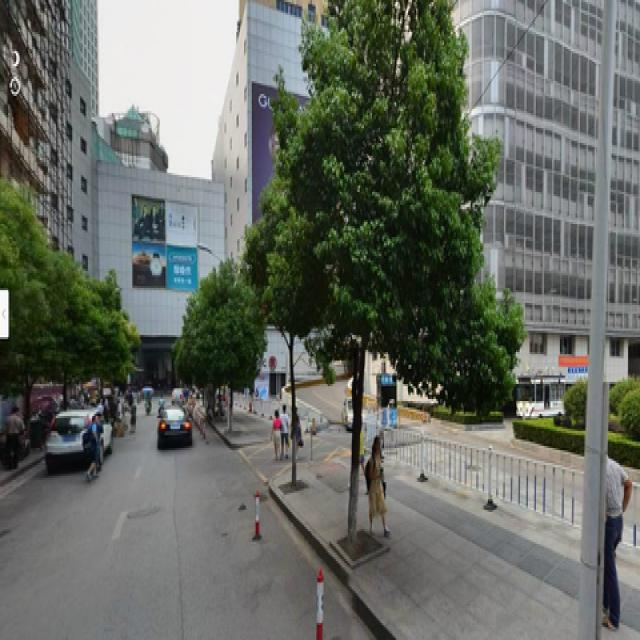cinn: (304, 8, 493, 550)
